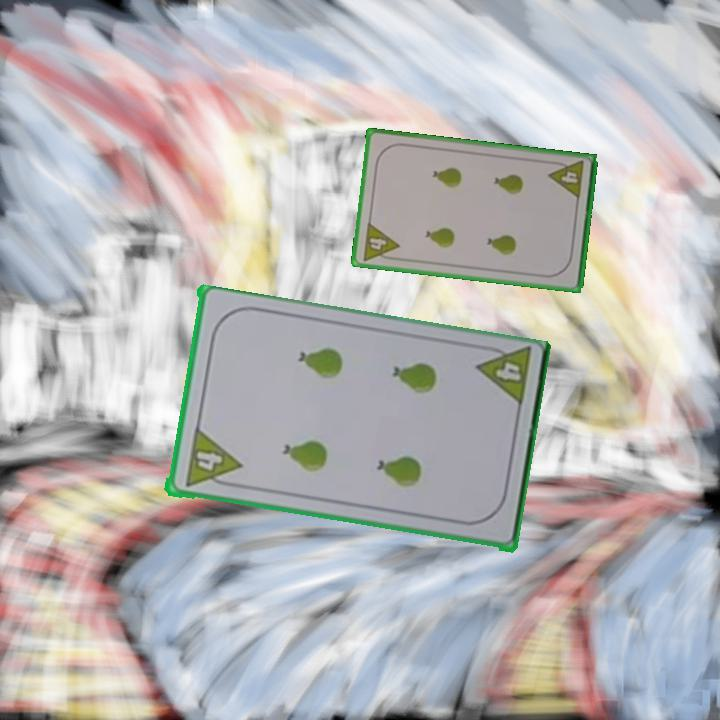4p: (190, 426, 243, 475), (359, 219, 402, 264), (546, 157, 587, 202), (491, 359, 523, 384)
